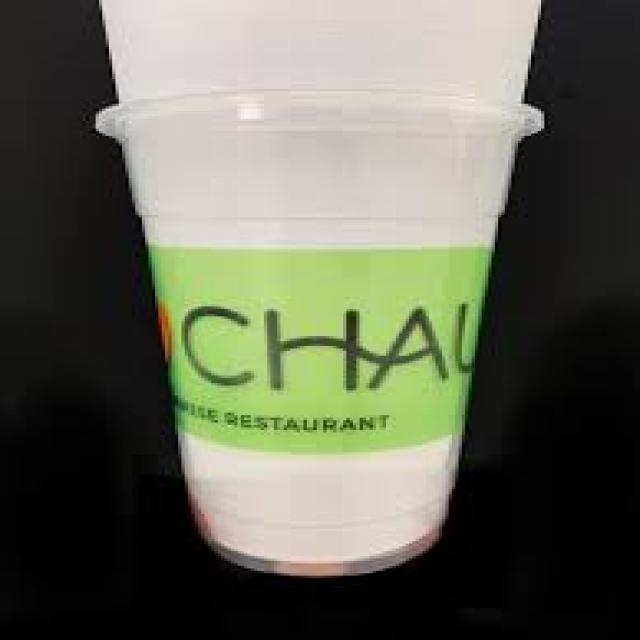cup: (97, 76, 542, 574)
